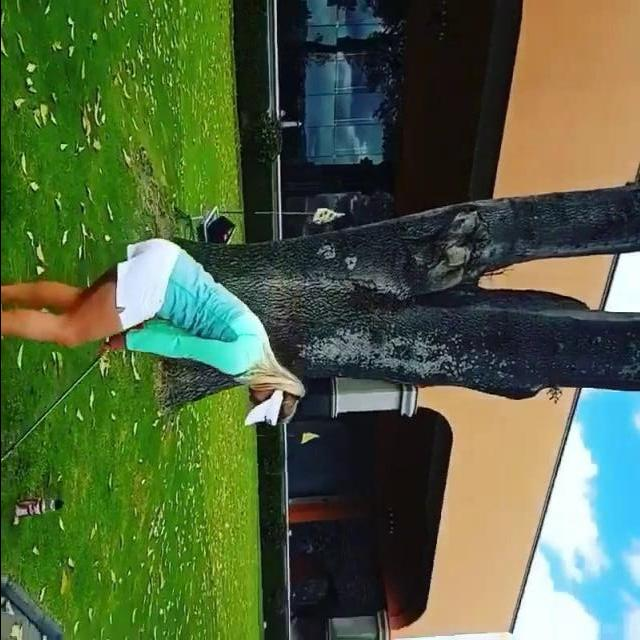golf club-handle: (1, 352, 106, 461)
